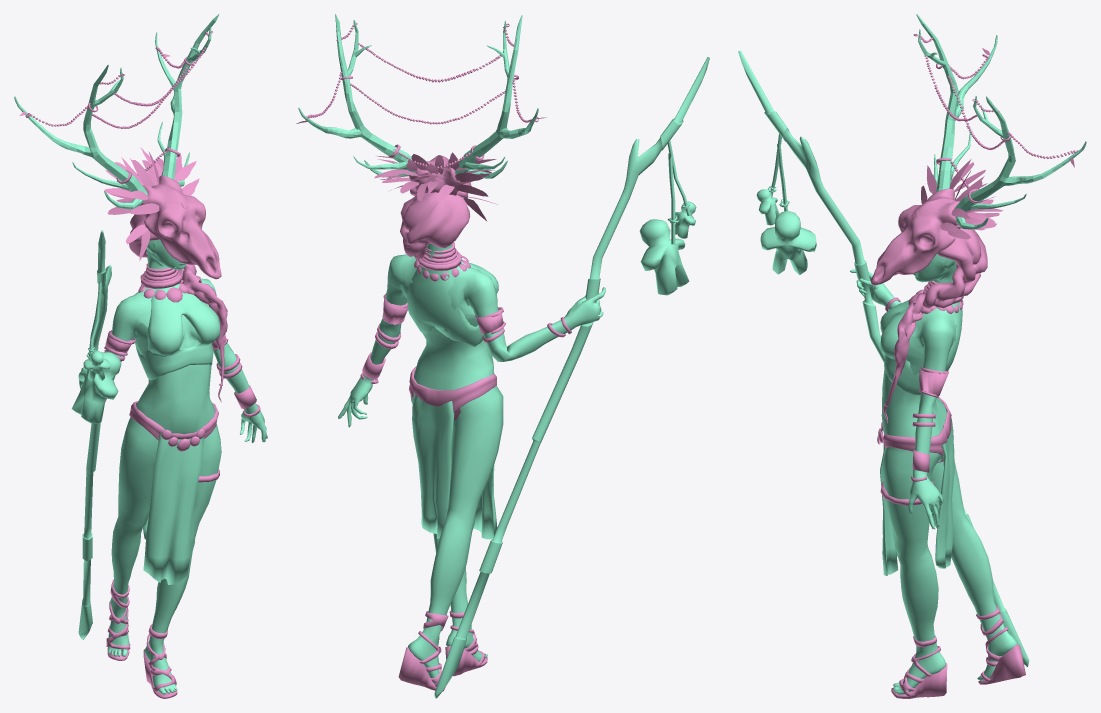
Rendered from Shaman.fbx.
3 views of the same model, side by side, from view 1: azimuth 30°, elevation 25°; view 2: azimuth 150°, elevation 25°; view 3: azimuth 270°, elevation 25° (orthographic). The views are drawn at different scales.
Visible parts, largest first — view 1: Body_Low, Skirt_Low, Top_Low, Horns_Low, Skull_Low, Leather_Low, Weapon_Low, Feathers_Low, Voodoo_Low, Jewellery_Low, Hair_Low, Beads_Low (+2 smaller); view 2: Body_Low, Weapon_Low, Skirt_Low, Horns_Low, Leather_Low, Top_Low, Hair_Low, Voodoo_Low, Feathers_Low, Jewellery_Low, Beads_Low, Shoes_Low (+2 smaller); view 3: Body_Low, Horns_Low, Skull_Low, Weapon_Low, Hair_Low, Leather_Low, Voodoo_Low, Skirt_Low, Top_Low, Feathers_Low, Shoes_Low, Beads_Low (+2 smaller).
Boxes of the visible parts, x1=… form: Body_Low: x1=79, y1=239, x2=267, y2=694; Skirt_Low: x1=143, y1=432, x2=204, y2=584; Top_Low: x1=135, y1=283, x2=220, y2=379; Horns_Low: x1=14, y1=14, x2=219, y2=209; Skull_Low: x1=139, y1=175, x2=221, y2=279; Leather_Low: x1=104, y1=331, x2=260, y2=691; Weapon_Low: x1=78, y1=230, x2=111, y2=639; Feathers_Low: x1=19, y1=54, x2=199, y2=260; Voodoo_Low: x1=71, y1=350, x2=121, y2=423; Jewellery_Low: x1=25, y1=31, x2=227, y2=659; Hair_Low: x1=129, y1=214, x2=227, y2=402; Beads_Low: x1=28, y1=31, x2=211, y2=175; Body_Low: x1=338, y1=244, x2=605, y2=683; Weapon_Low: x1=434, y1=57, x2=709, y2=698; Skirt_Low: x1=412, y1=393, x2=497, y2=539; Horns_Low: x1=298, y1=14, x2=538, y2=178; Leather_Low: x1=360, y1=301, x2=571, y2=686; Top_Low: x1=407, y1=259, x2=498, y2=346; Hair_Low: x1=400, y1=192, x2=469, y2=259; Voodoo_Low: x1=639, y1=201, x2=696, y2=295; Feathers_Low: x1=296, y1=117, x2=546, y2=220; Jewellery_Low: x1=341, y1=22, x2=538, y2=652; Beads_Low: x1=306, y1=25, x2=531, y2=169; Shoes_Low: x1=398, y1=646, x2=487, y2=691; Body_Low: x1=850, y1=253, x2=1017, y2=694; Horns_Low: x1=916, y1=14, x2=1086, y2=229; Skull_Low: x1=870, y1=188, x2=965, y2=285; Weapon_Low: x1=738, y1=50, x2=1029, y2=666; Hair_Low: x1=883, y1=228, x2=987, y2=424; Leather_Low: x1=880, y1=297, x2=1008, y2=696; Voodoo_Low: x1=756, y1=189, x2=816, y2=274; Skirt_Low: x1=880, y1=418, x2=954, y2=575; Top_Low: x1=880, y1=299, x2=962, y2=395; Feathers_Low: x1=921, y1=48, x2=1074, y2=239; Shoes_Low: x1=891, y1=644, x2=1025, y2=698; Beads_Low: x1=918, y1=35, x2=1078, y2=188.
Size of the model in its own units: 1.99 by 4.61 by 2.23.
